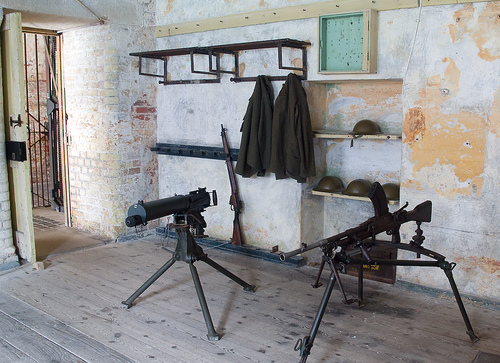rifle: (278, 187, 458, 342), (220, 119, 249, 247)
